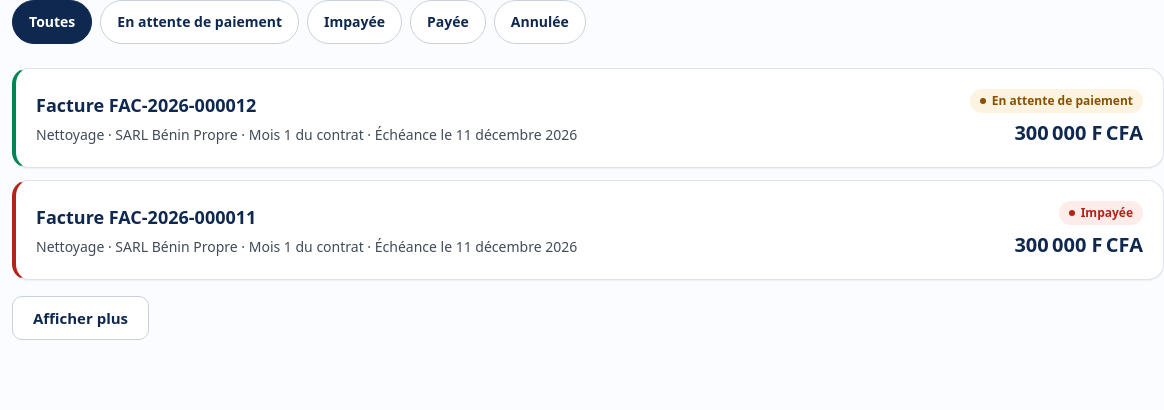
Scenario: Mes factures › liste les factures avec leur statut, leur échéance et la page suivante
The width and height of the screenshot is (1164, 410).
Check: the link "Facture FAC-2026-000011" is shown, box [36,205,256,229]
Check: the number of links "En attente de paiement" is 2, box [100,0,299,44]; [970,89,1143,113]
Click the button "Afficher plus" at (81, 318), box [12,296,149,340]
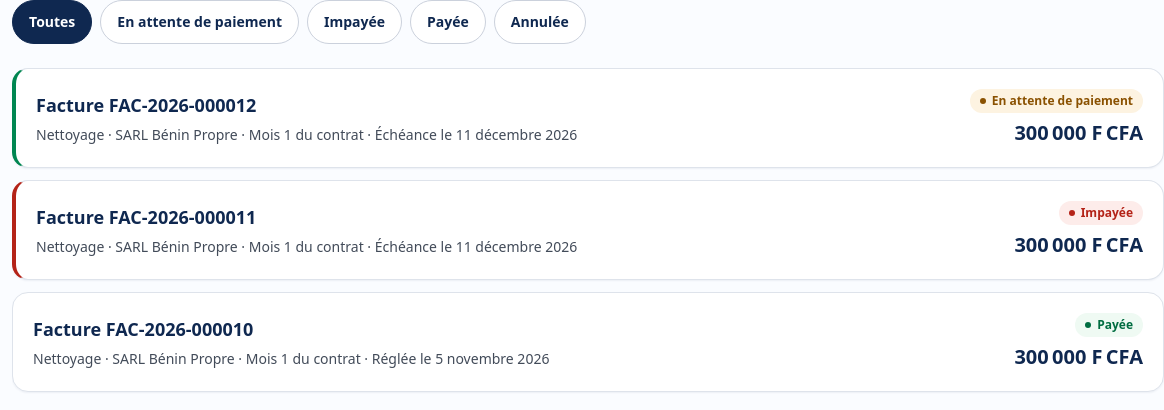
Check: the number of links "Payée" is 2, box [410,0,486,44]; [1075,313,1143,337]
Check: the link "Facture FAC-2026-000010" is shown, box [33,317,253,341]
Check: the text "Réglée le 5 novembre 2026" is shown, box [33,349,549,368]
